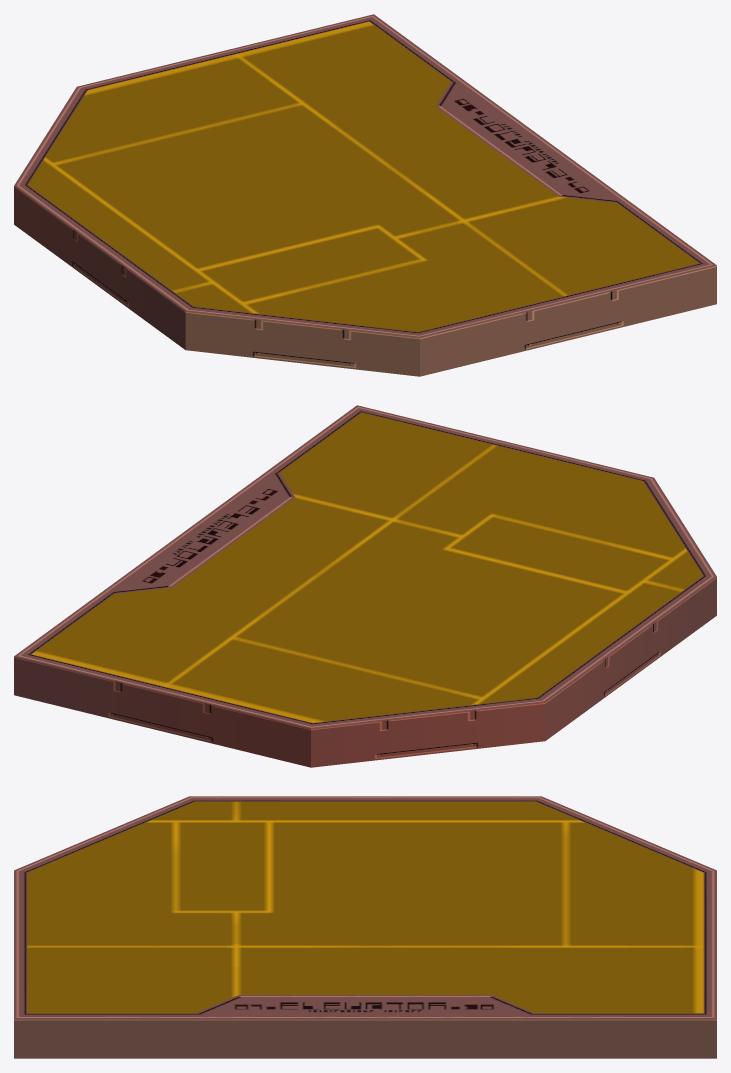
The picture shows the model from 3 angles, top to bottom: view 1: azimuth 30°, elevation 25°; view 2: azimuth 150°, elevation 25°; view 3: azimuth 270°, elevation 25°; orthographic projection. The views are drawn at different scales.
Visible parts, largest first — view 1: Joint_0_Object_1, Joint_0_Object_0; view 2: Joint_0_Object_1, Joint_0_Object_0; view 3: Joint_0_Object_1, Joint_0_Object_0.
Part boxes in pixels (left/top/right/bottom): Joint_0_Object_1: left=28, top=22, right=698, bottom=331; Joint_0_Object_0: left=14, top=14, right=716, bottom=376; Joint_0_Object_1: left=32, top=413, right=702, bottom=722; Joint_0_Object_0: left=14, top=405, right=716, bottom=767; Joint_0_Object_1: left=27, top=801, right=703, bottom=1013; Joint_0_Object_0: left=14, top=796, right=716, bottom=1058.
Size of the model in its own units: 3000 by 250 by 4000.
2 materials, 2 textured.
